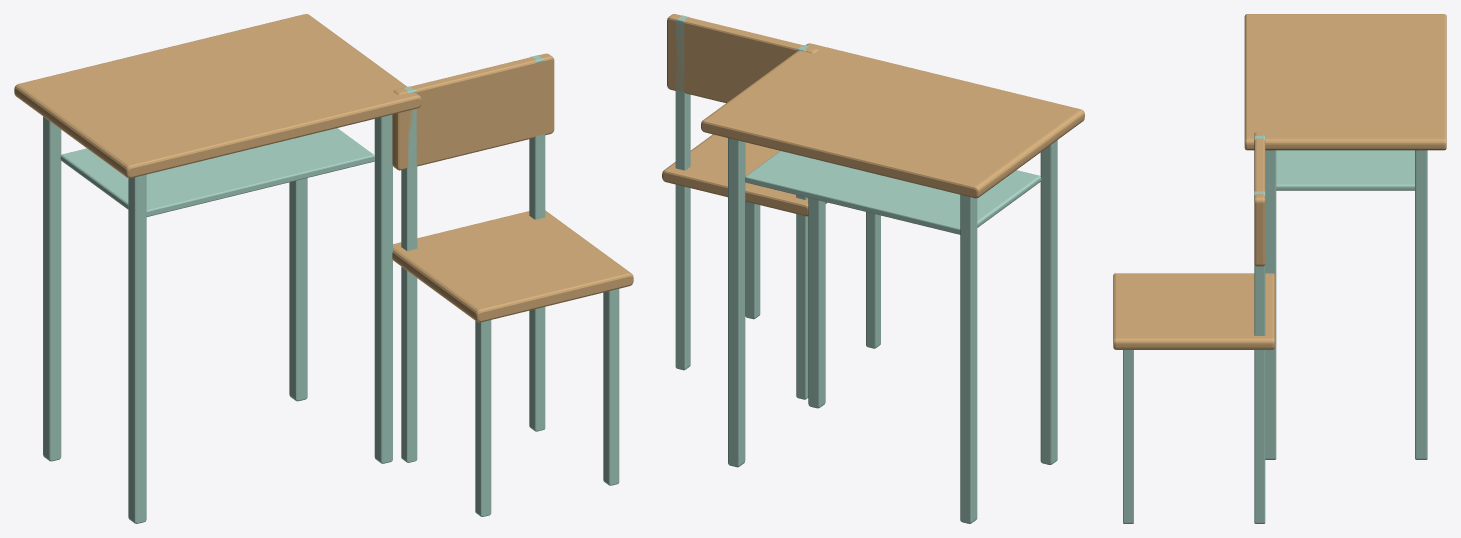
Rendered from desk.glb.
3 views of the same model, side by side, from view 1: azimuth 30°, elevation 25°; view 2: azimuth 150°, elevation 25°; view 3: azimuth 270°, elevation 25° (orthographic). The views are drawn at different scales.
Parts seen in each view (by area): view 1: desktop, desk_leg (×4), seat, backrest, chair_leg (×4), booktray, back_support (×2); view 2: desktop, desk_leg (×4), booktray, chair_leg (×4), backrest, seat, back_support; view 3: desktop, seat, desk_leg (×2), booktray, chair_leg (×2), backrest, back_support.
Part boxes in pixels (x1,y1,x2,y2): desktop: (14, 14, 421, 178); desk_leg (×4): (43, 114, 392, 523); seat: (392, 210, 633, 322); backrest: (392, 53, 554, 170); chair_leg (×4): (401, 267, 619, 516); booktray: (60, 128, 374, 216); back_support (×2): (401, 55, 545, 250); desktop: (701, 43, 1084, 198); desk_leg (×4): (728, 138, 1057, 523); booktray: (745, 151, 1041, 234); chair_leg (×4): (675, 184, 880, 399); backrest: (667, 14, 818, 102); seat: (662, 134, 827, 216); back_support: (675, 15, 690, 170); desktop: (1244, 14, 1446, 150); seat: (1113, 273, 1274, 349); desk_leg (×2): (1265, 150, 1427, 459); booktray: (1276, 150, 1414, 190); chair_leg (×2): (1123, 350, 1265, 523); backrest: (1254, 132, 1265, 266); back_support: (1254, 191, 1265, 335).
Size of the model in its own units: 0.88 by 0.72 by 0.66.
